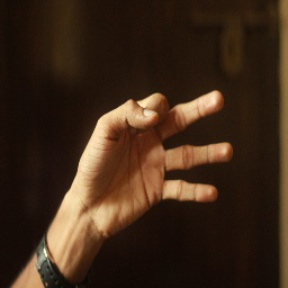K: (75, 88, 235, 232)
